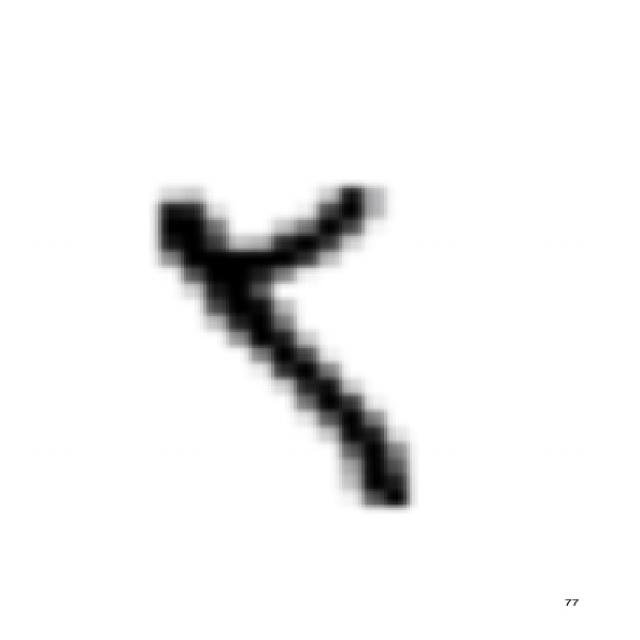3 -three-: (126, 160, 434, 521)
